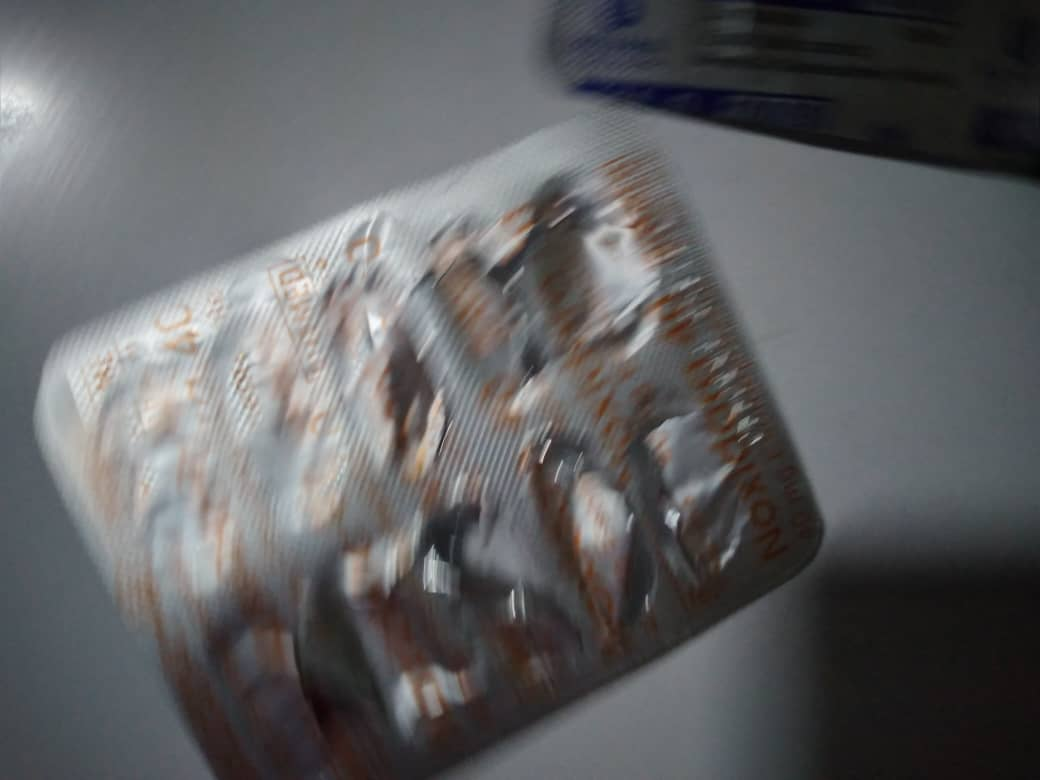Medicine: (54, 100, 824, 772), (538, 0, 1040, 204)
